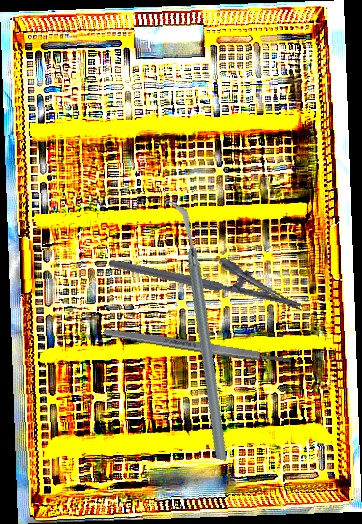Chopper: (107, 200, 290, 462)
Needle Holder: (108, 232, 310, 312)
Scalpel Handle: (103, 326, 292, 367)
